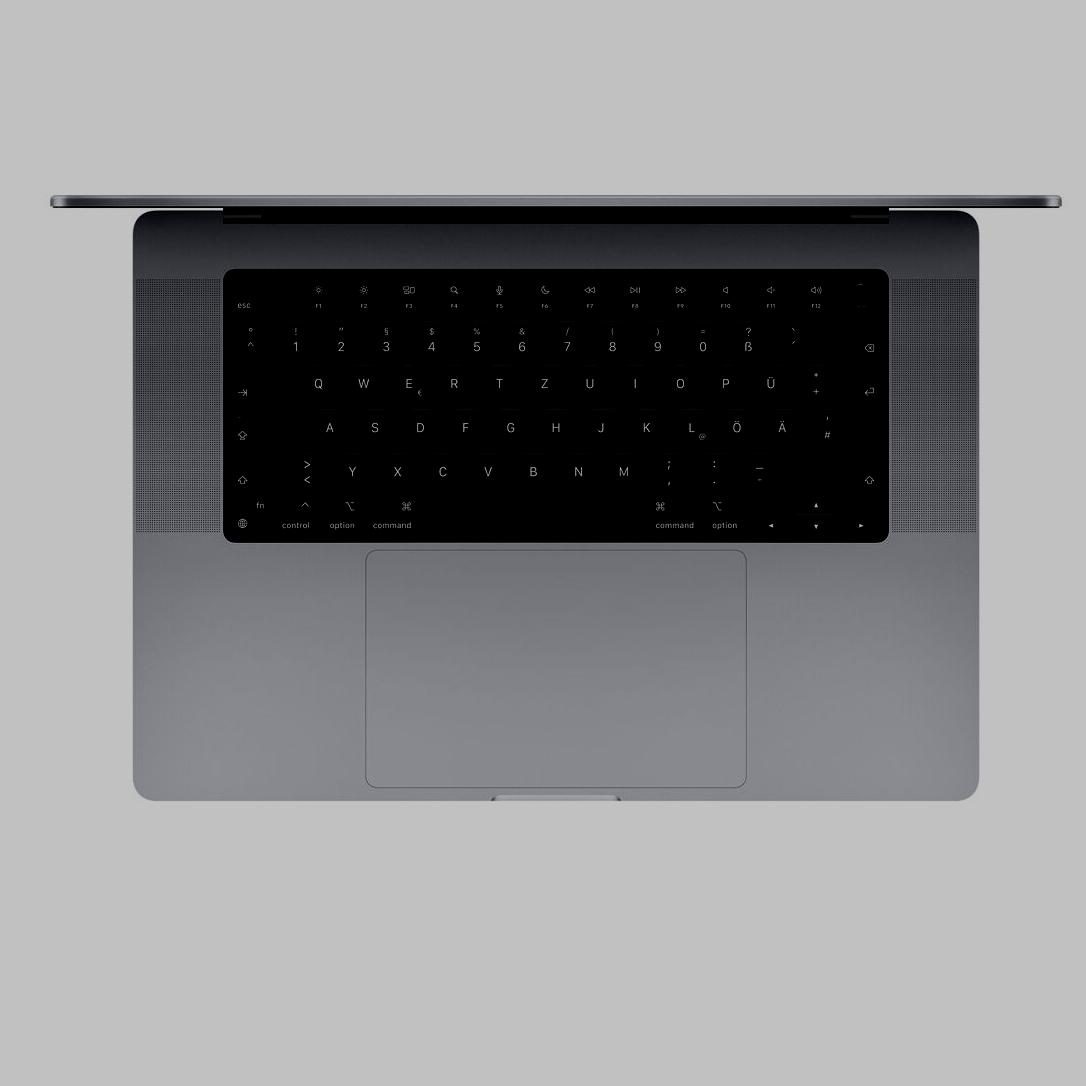0: (681, 316, 722, 358)
1: (274, 316, 314, 357)
2: (318, 316, 360, 357)
3: (364, 316, 405, 358)
4: (410, 316, 451, 357)
5: (454, 316, 496, 357)
6: (500, 316, 542, 357)
7: (545, 316, 586, 357)
8: (590, 317, 632, 358)
9: (635, 317, 677, 358)
a: (307, 404, 348, 445)
accent: (771, 316, 811, 356)
ae: (759, 404, 801, 445)
alt-left: (319, 492, 362, 536)
altgr-right: (702, 492, 745, 535)
b: (510, 448, 552, 489)
c: (420, 448, 462, 490)
caret: (228, 316, 269, 357)
comma: (646, 448, 687, 489)
d: (398, 404, 439, 445)
del: (816, 316, 881, 358)
e: (386, 360, 428, 401)
enter: (839, 360, 882, 447)
f: (443, 404, 484, 445)
g: (488, 404, 529, 445)
h: (533, 404, 574, 445)
hash: (804, 404, 846, 445)
i: (613, 360, 653, 401)
j: (579, 404, 619, 445)
k: (623, 404, 665, 445)
keyboard: (216, 268, 895, 547)
l: (669, 404, 710, 445)
less: (285, 449, 326, 489)
m: (601, 448, 643, 490)
minus: (736, 449, 778, 489)
n: (556, 448, 597, 489)
o: (658, 361, 698, 401)
oe: (714, 404, 755, 445)
p: (703, 360, 744, 401)
plus: (794, 360, 834, 401)
point: (692, 448, 733, 489)
q: (295, 360, 337, 402)
r: (432, 360, 473, 402)
s: (352, 405, 393, 445)
shift-left: (227, 449, 281, 491)
shift-lock: (227, 404, 303, 446)
shift-right: (782, 448, 881, 490)
space: (420, 493, 643, 536)
ss: (726, 316, 767, 357)
strg-left: (274, 493, 317, 536)
t: (477, 360, 518, 401)
tab: (228, 360, 292, 402)
u: (568, 360, 608, 401)
ue: (748, 360, 789, 401)
v: (466, 448, 507, 489)
w: (341, 360, 382, 401)
x: (375, 448, 416, 489)
y: (330, 449, 371, 489)
z: (522, 360, 563, 401)
